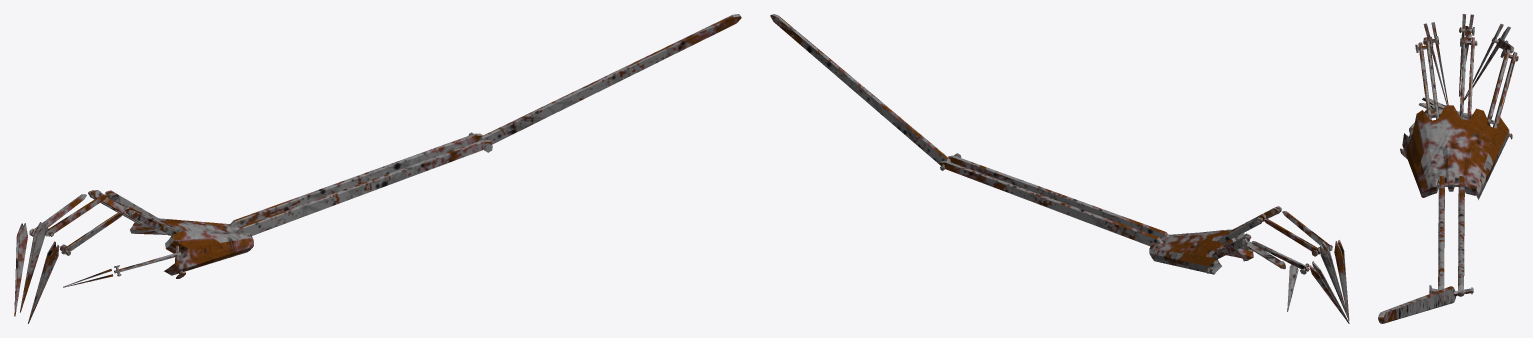
File: maossub.fbx
The picture shows the model from 3 angles, left to right: view 1: azimuth 30°, elevation 25°; view 2: azimuth 150°, elevation 25°; view 3: azimuth 270°, elevation 25°; orthographic projection. The views are drawn at different scales.
Parts seen in each view (by area): view 1: Cubo.022; view 2: Cubo.022; view 3: Cubo.022.
Boxes of the visible parts, x1,y1,x2,y2 form: Cubo.022: (14, 14, 741, 323); Cubo.022: (770, 14, 1349, 323); Cubo.022: (1378, 14, 1518, 323).
Bounding box in the file's own units: 1417 × 319 × 206.
Materials: 1 (1 with a texture image).
